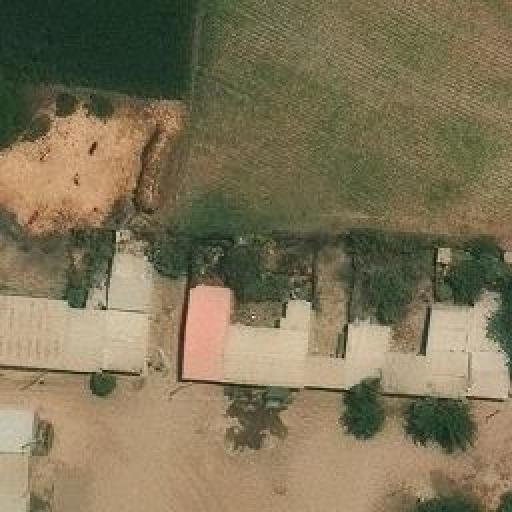manzanas: (171, 224, 510, 403), (0, 227, 163, 380), (0, 407, 47, 510)
